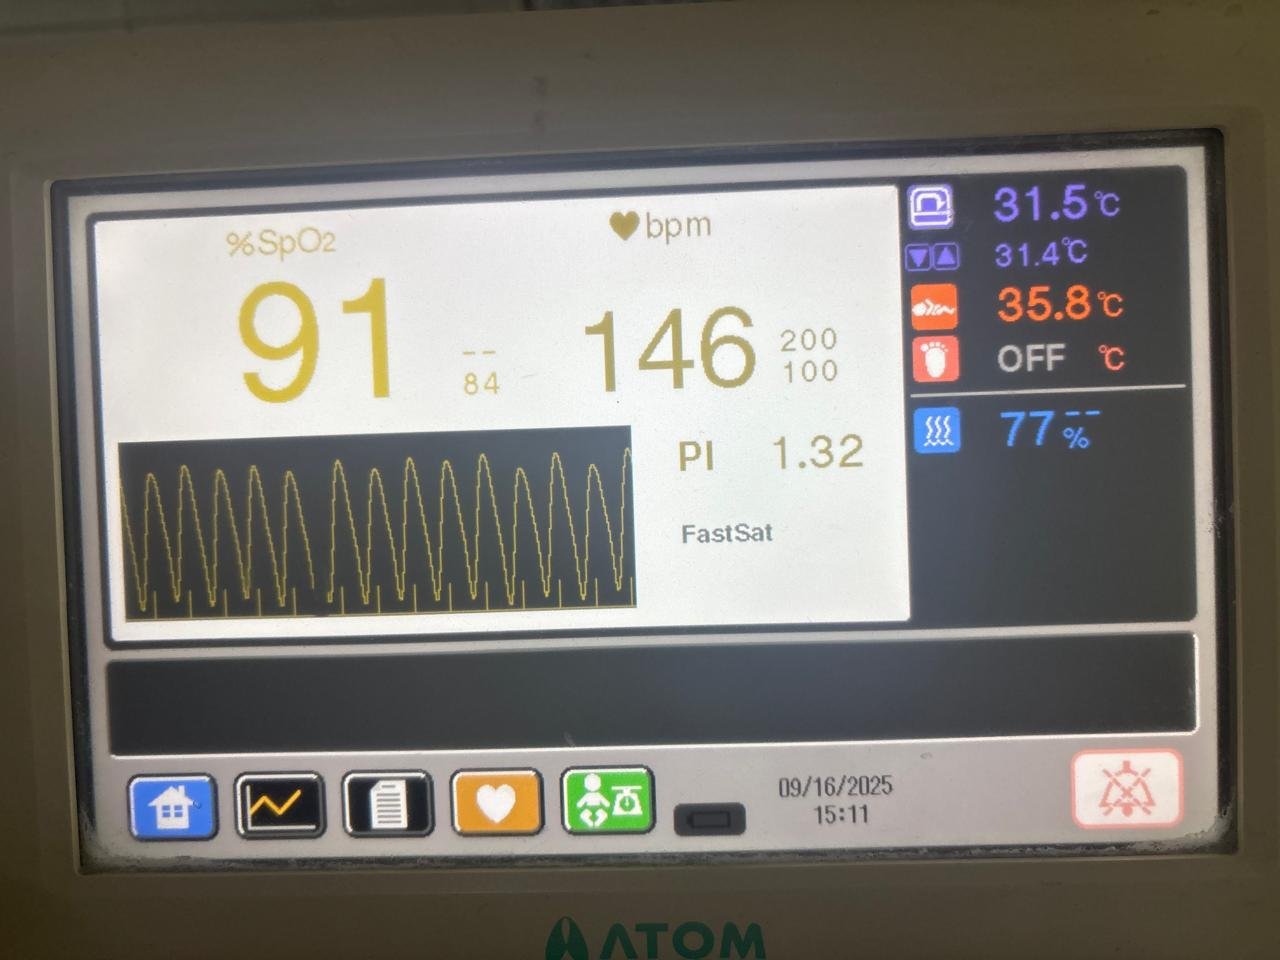heart_rate_value: (570, 287, 772, 405)
humidity_value: (983, 399, 1061, 454)
skin_temp_value: (983, 277, 1092, 336)
spo2_value: (205, 265, 418, 410)
